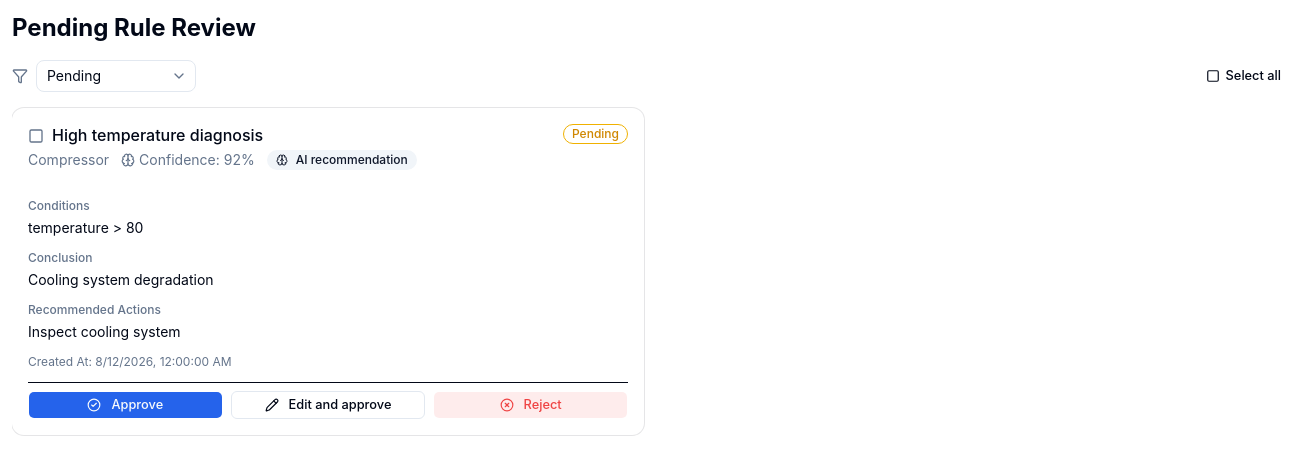
待审核规则页面英文界面 › 状态过滤器应切换到已批准规则视图
Click the dropdown: (116, 76) [36,60,196,92]
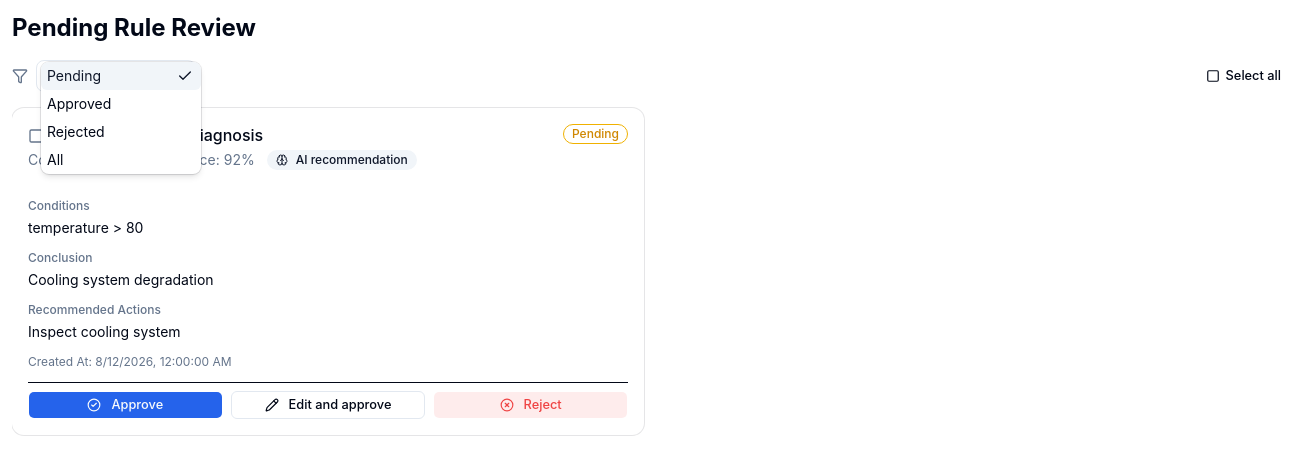
Expected: the text "Approved" is shown
Click the option "Approved": (79, 104) [47,95,111,112]
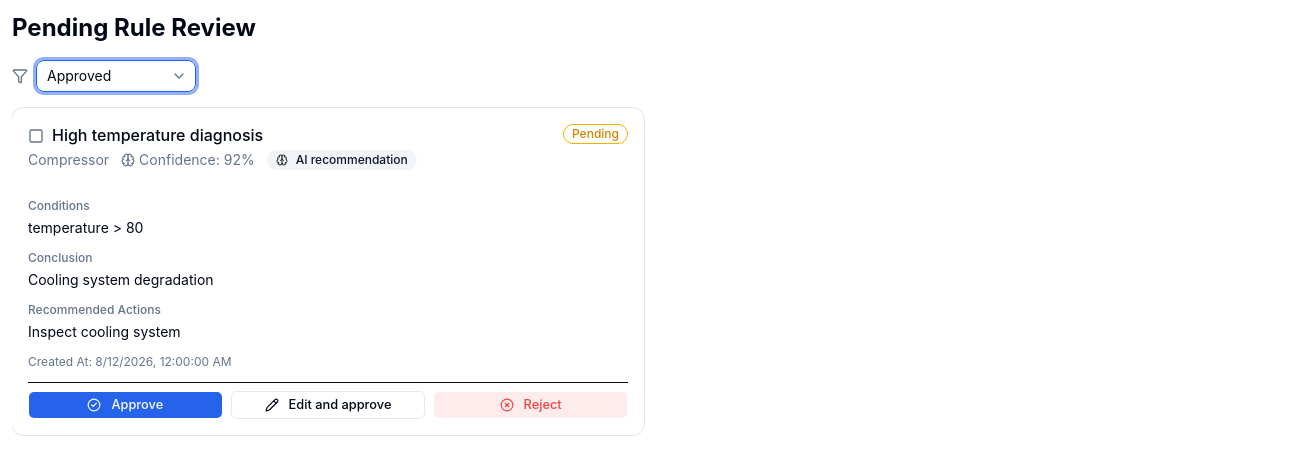
Expected: the button "Select all" is gone
